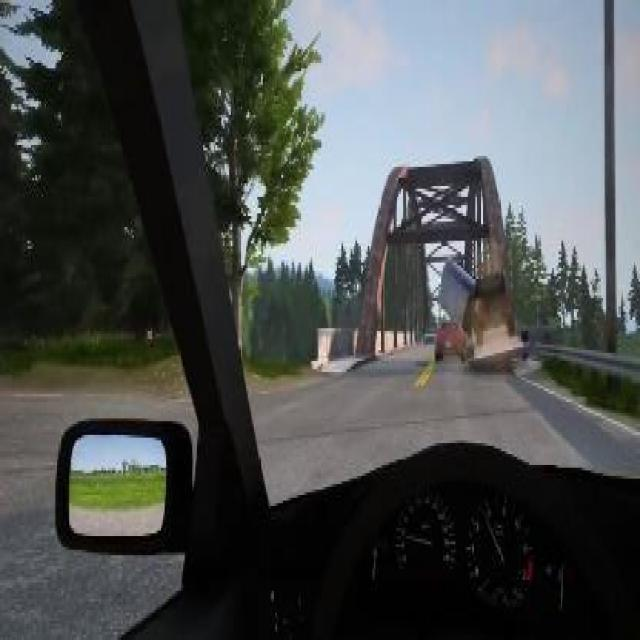accident: (431, 254, 480, 364)
